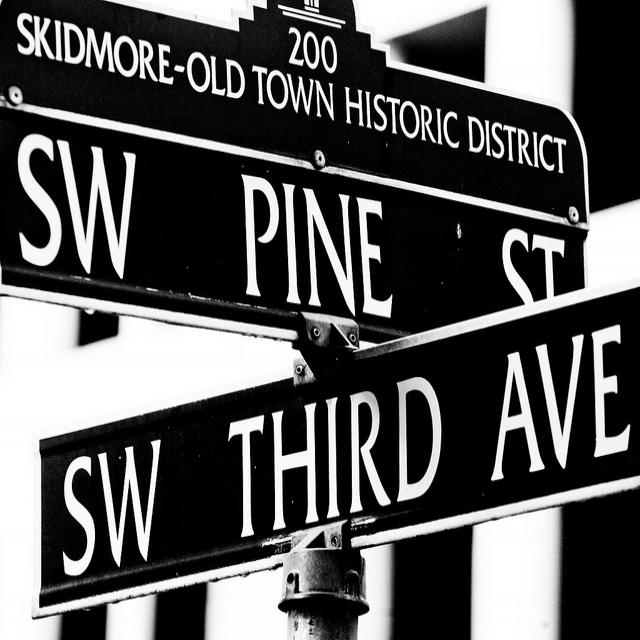fire_hydrant: (260, 515, 376, 639)
